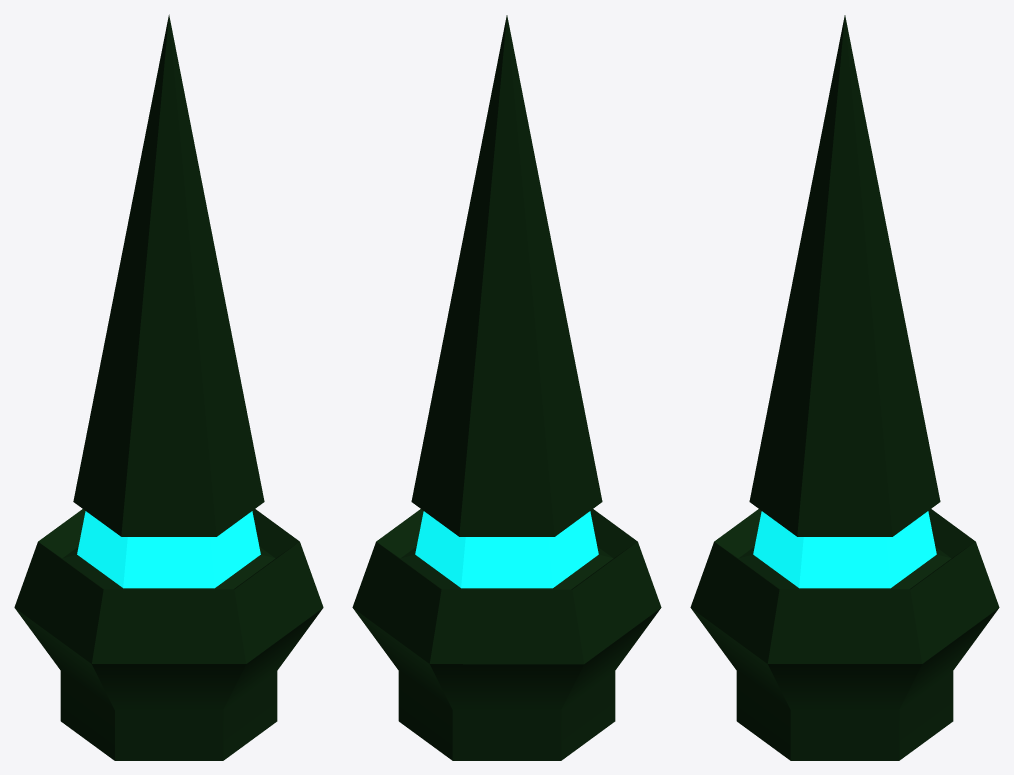
The model's file is bashnya3.fbx.
3 renders of one model, left to right at view 1: azimuth 30°, elevation 25°; view 2: azimuth 150°, elevation 25°; view 3: azimuth 270°, elevation 25°, orthographic.
Visible parts, largest first — view 1: Cone; view 2: Cone; view 3: Cone.
Boxes of the visible parts, x1,y1,x2,y2 form: Cone: [14, 14, 323, 760]; Cone: [352, 15, 661, 760]; Cone: [690, 15, 999, 760].
Size of the model in its own units: 11532 by 33607 by 13310.
